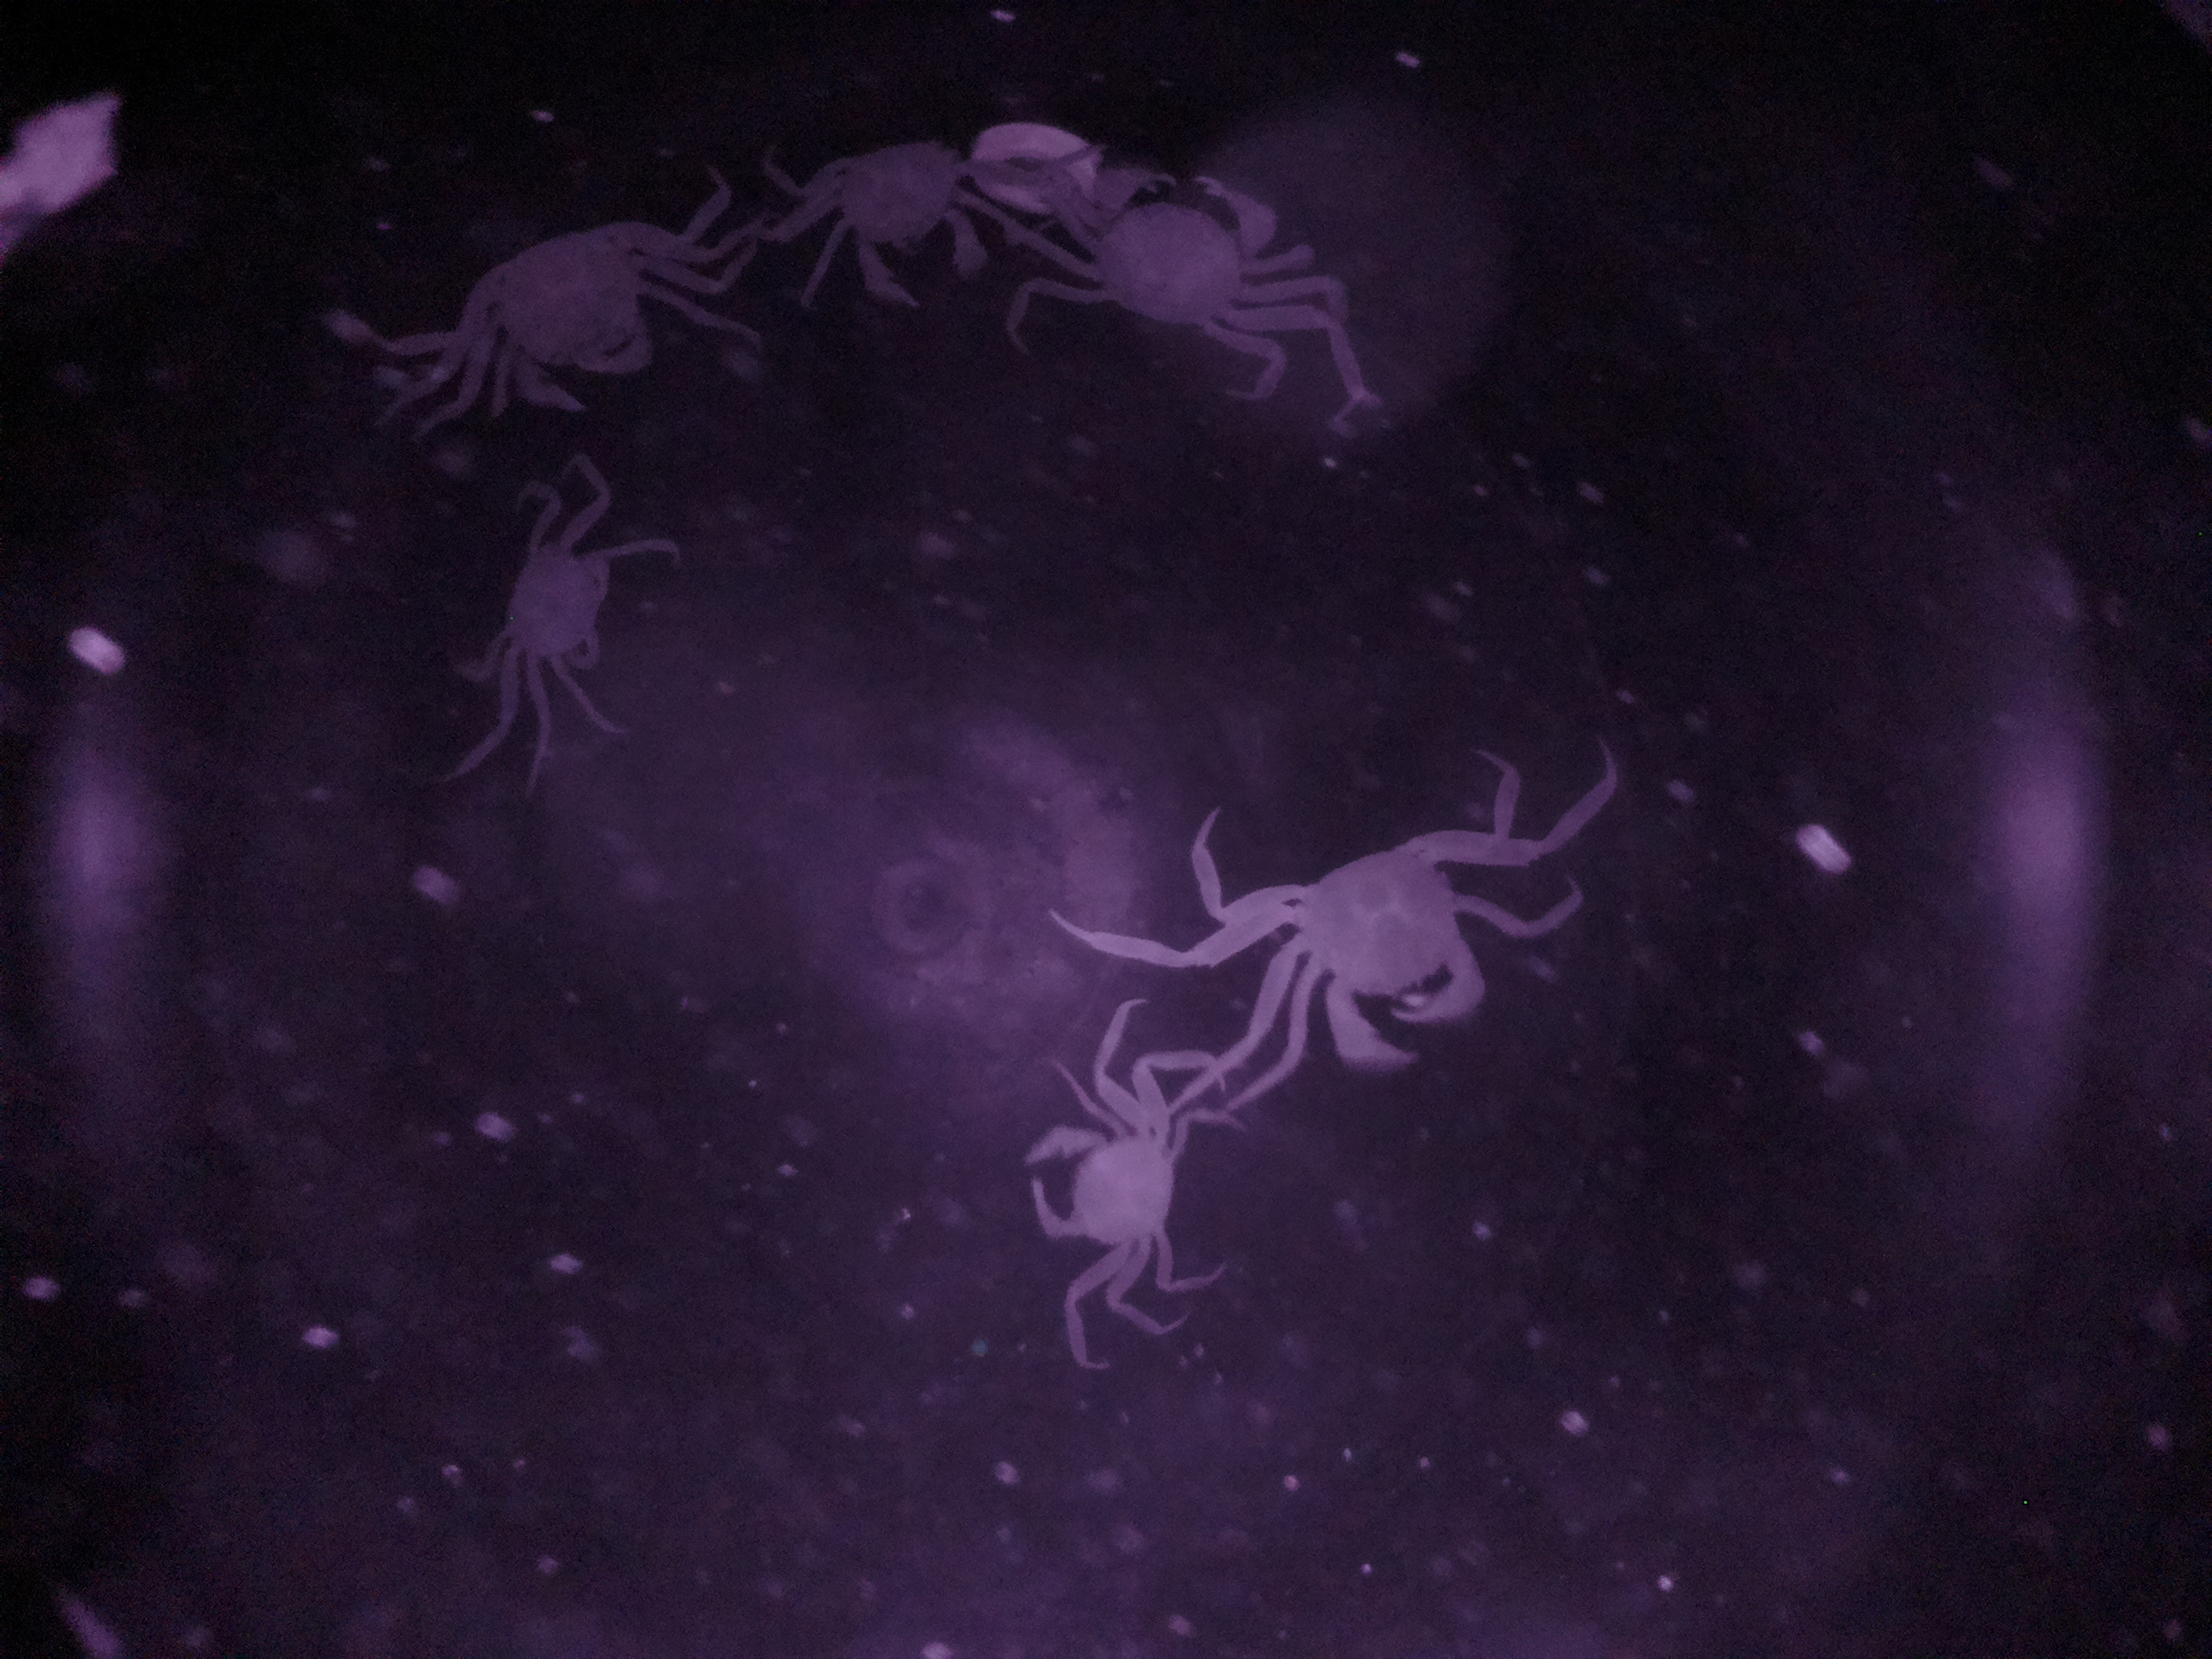Crab: (1231, 814, 1515, 1087), (448, 202, 676, 429), (1045, 157, 1306, 342), (1008, 1082, 1200, 1293), (801, 124, 984, 328), (484, 500, 622, 709)
